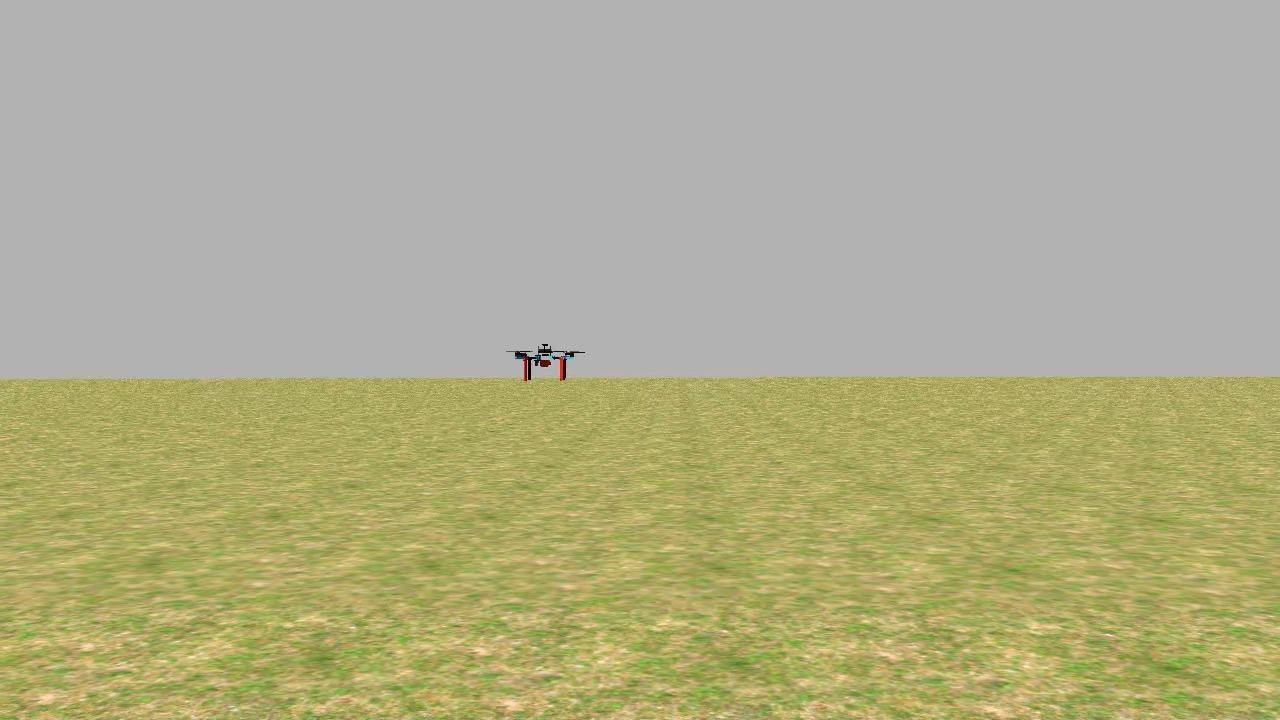UAV: (513, 340, 590, 388)
